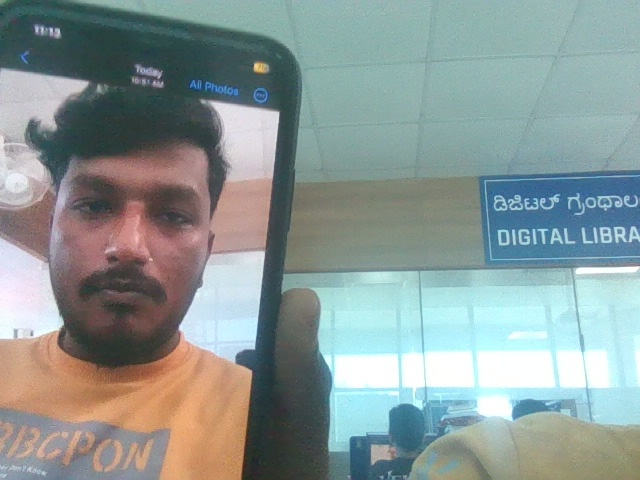fake: (20, 57, 243, 373)
